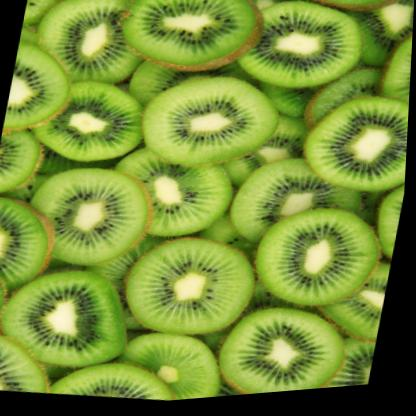--: (0, 254, 148, 385), (119, 226, 269, 352), (132, 67, 286, 185), (22, 155, 164, 282), (247, 202, 389, 328), (230, 0, 380, 109), (104, 0, 274, 96), (19, 60, 155, 180), (211, 292, 360, 401), (292, 88, 411, 209), (29, 0, 161, 97), (39, 349, 186, 412), (0, 322, 69, 399)
